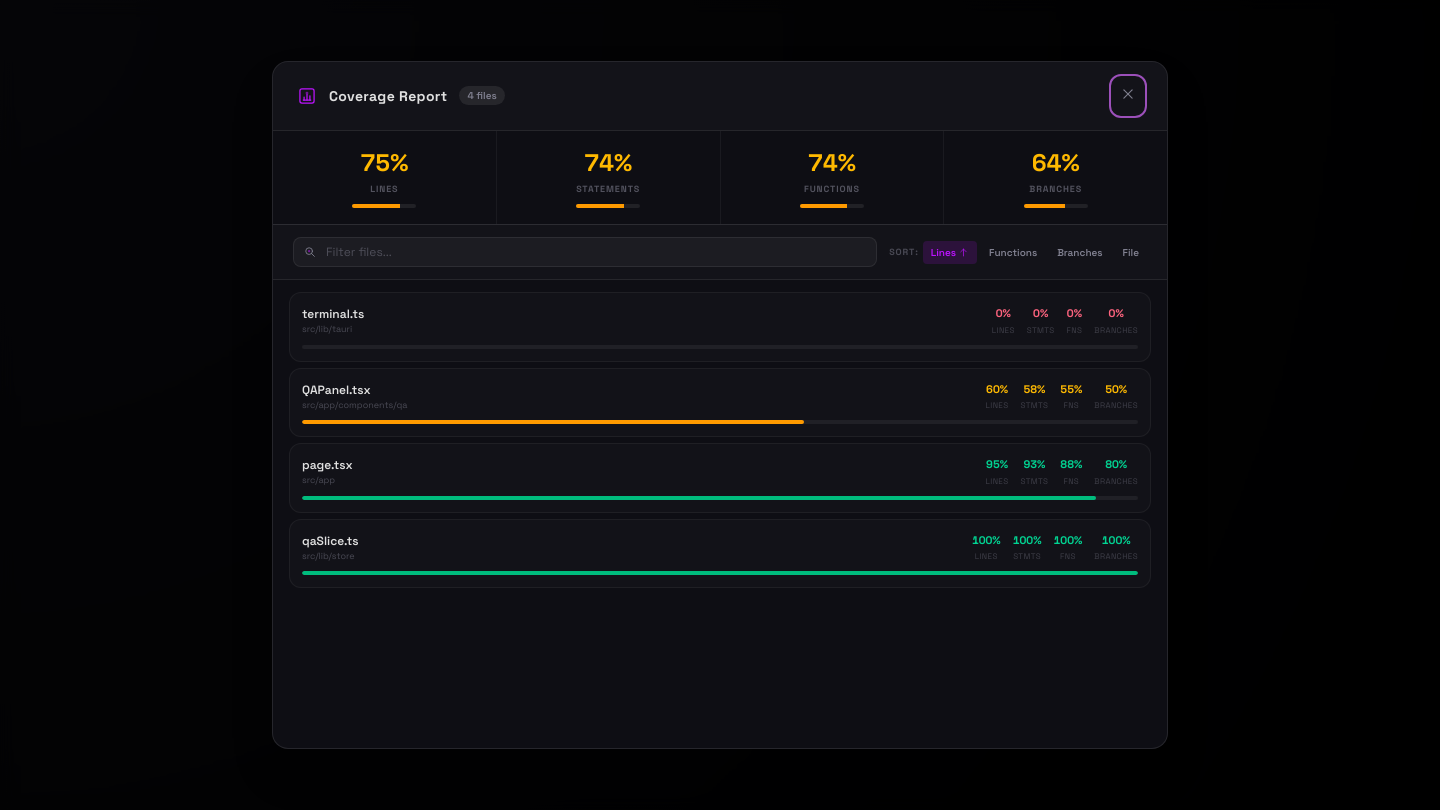
Test: CoverageModal › filters files by search input
Type "terminal" into the field with placeholder "Filter files..." at [585, 252], box [293,237,877,267]
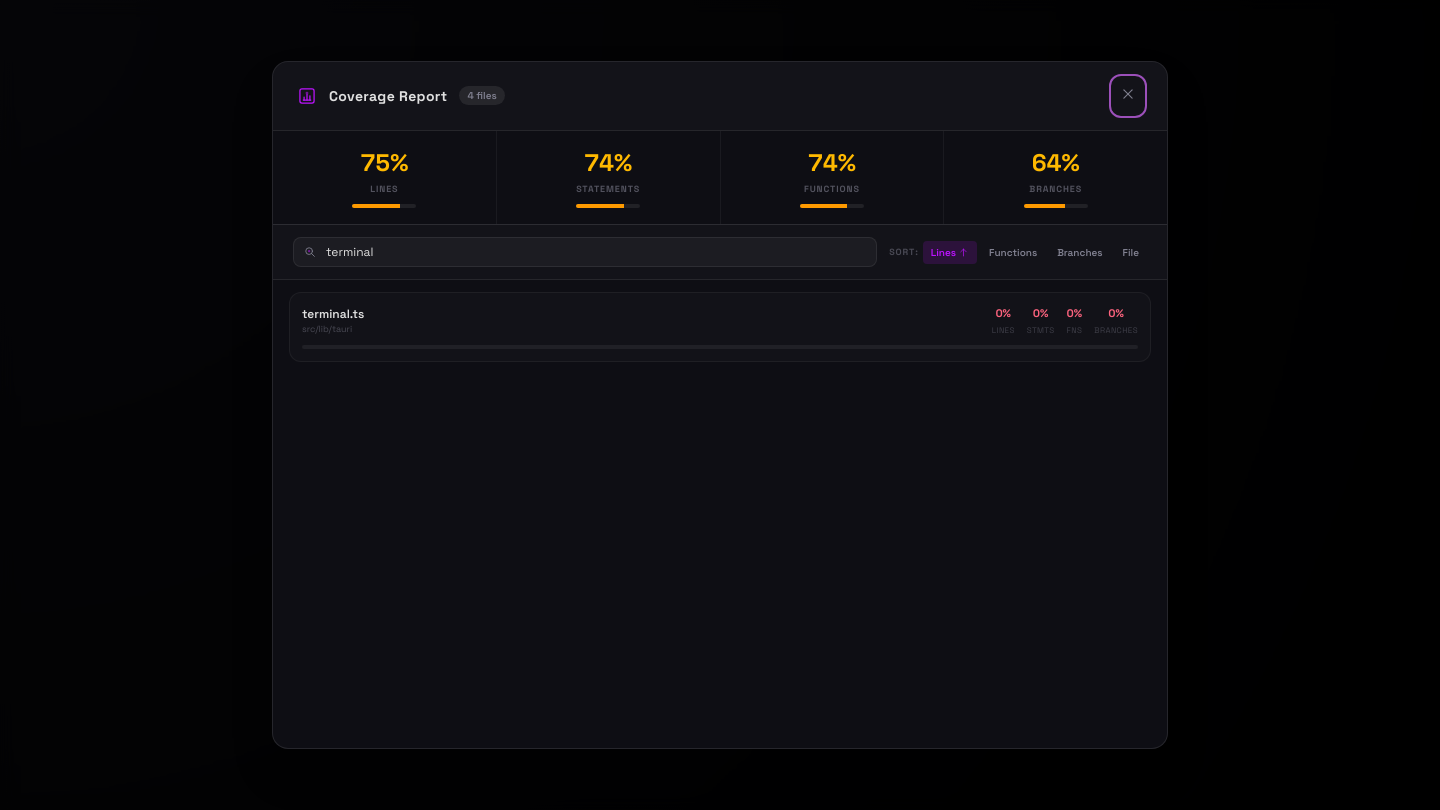
Expected: the text "terminal.ts" is shown, [302,306,364,322]
Result: the text "page.tsx" is gone
